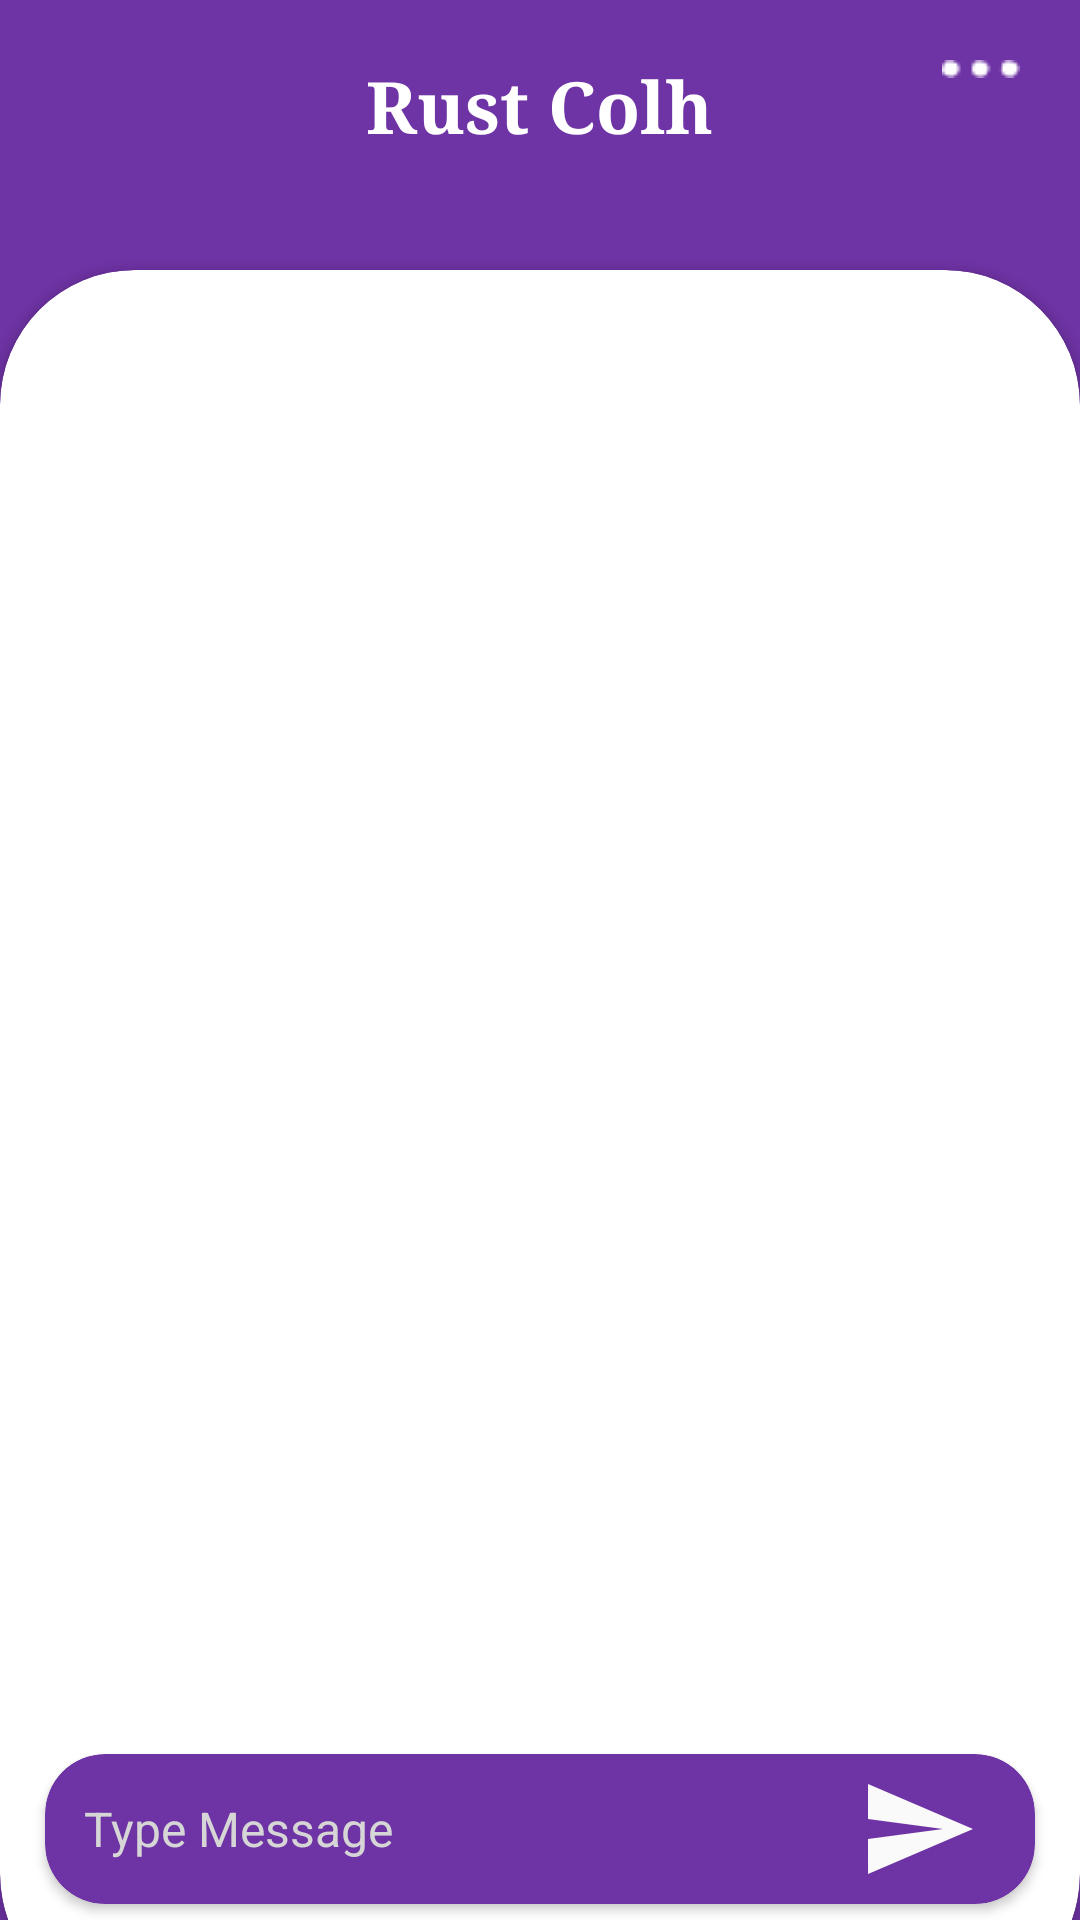

Named icons in this screenshot (1080 x 1920) and their centers, (x,y):
Send Message: (920,1829)
